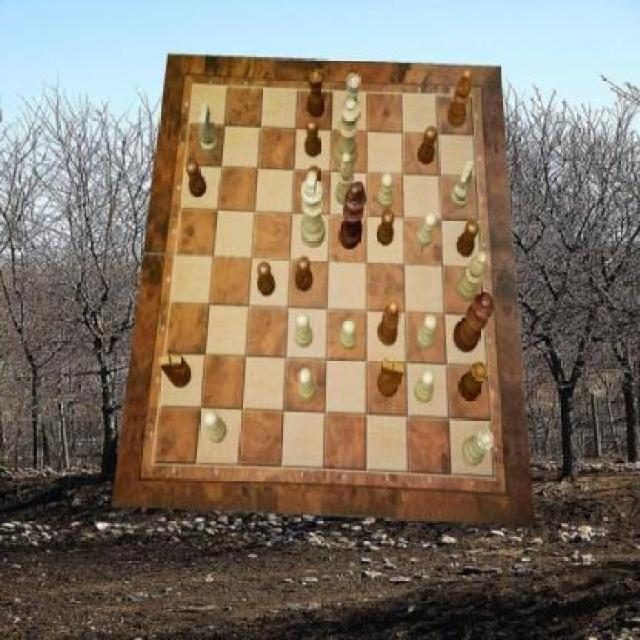bishop: (448, 69, 472, 128), (378, 301, 401, 347)
black-bishop: (340, 183, 368, 251)
black-king: (158, 354, 192, 388), (377, 358, 405, 398)
black-knight: (457, 220, 479, 258), (417, 126, 437, 165), (186, 160, 206, 198), (306, 118, 323, 158), (377, 210, 395, 246), (306, 166, 323, 204), (295, 257, 313, 291), (259, 262, 276, 296)
black-pawn: (454, 292, 494, 352)
black-queen: (458, 363, 488, 403), (308, 70, 325, 119)
black-rook: (457, 250, 488, 302), (336, 154, 356, 208)
white-bishop: (302, 172, 326, 248)
white-king: (449, 160, 474, 211), (200, 103, 220, 155)
white-knight: (415, 212, 438, 248), (205, 410, 228, 444), (416, 315, 436, 350), (378, 172, 396, 210), (298, 368, 318, 402), (416, 369, 436, 403), (295, 312, 313, 348), (339, 318, 356, 351)
white-pawn: (332, 99, 360, 170)
white-queen: (461, 429, 494, 467), (342, 74, 359, 123)
